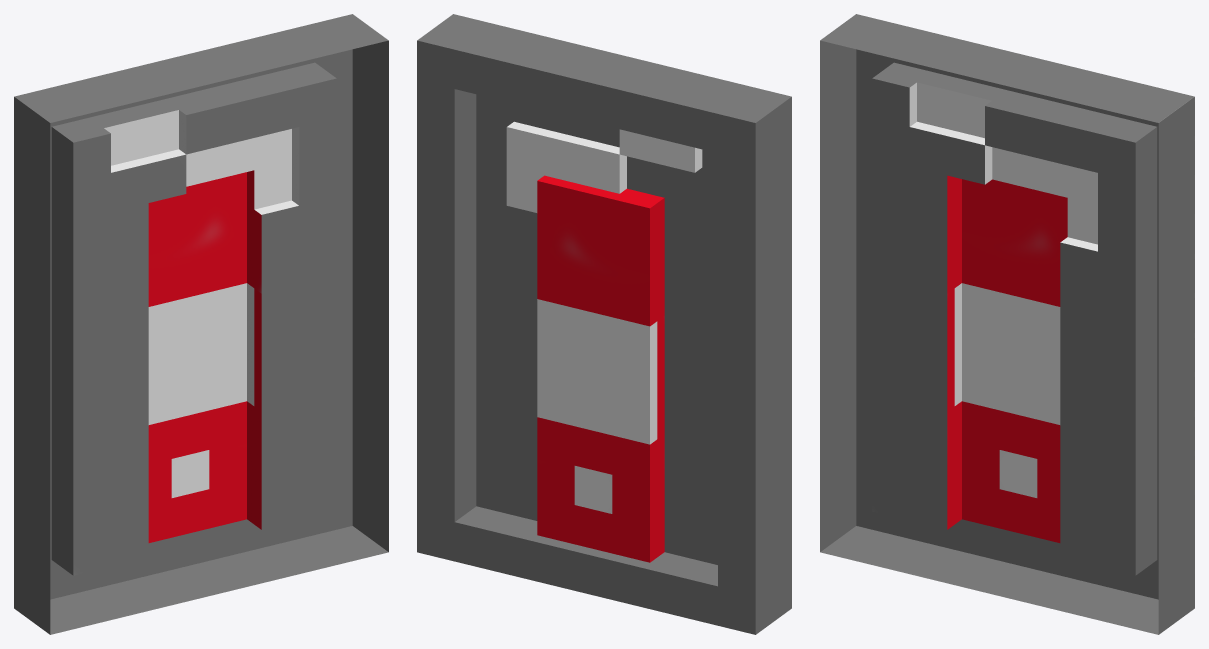
File: ExtinguisherDecal.fbx
3 renders of one model, left to right at view 1: azimuth 30°, elevation 25°; view 2: azimuth 150°, elevation 25°; view 3: azimuth 330°, elevation 25°, orthographic.
Parts seen in each view (by area): view 1: Extinguisher.001; view 2: Extinguisher.001; view 3: Extinguisher.001.
Boxes of the visible parts, bbox=[...] form: Extinguisher.001: bbox=[14, 14, 388, 634]; Extinguisher.001: bbox=[417, 14, 791, 634]; Extinguisher.001: bbox=[820, 14, 1194, 634].
Bounding box in the file's own units: 31.75 × 171 × 248.
